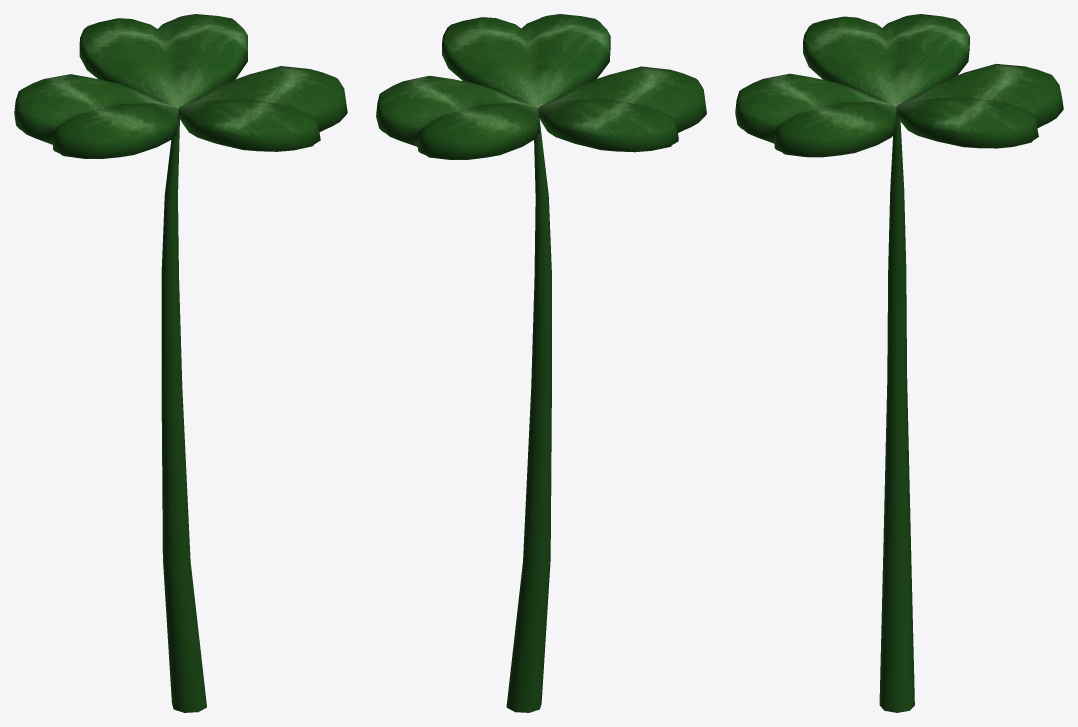
The model's file is Trevo.fbx.
The picture shows the model from 3 angles, left to right: view 1: azimuth 30°, elevation 25°; view 2: azimuth 150°, elevation 25°; view 3: azimuth 270°, elevation 25°; orthographic projection.
Parts seen in each view (by area): view 1: Lirio.001; view 2: Lirio.001; view 3: Lirio.001.
Part boxes in pixels (x1,y1,x2,y2): Lirio.001: (14,14,347,712); Lirio.001: (376,14,706,712); Lirio.001: (735,14,1063,712).
Bounding box in the file's own units: 150 × 334 × 159.
